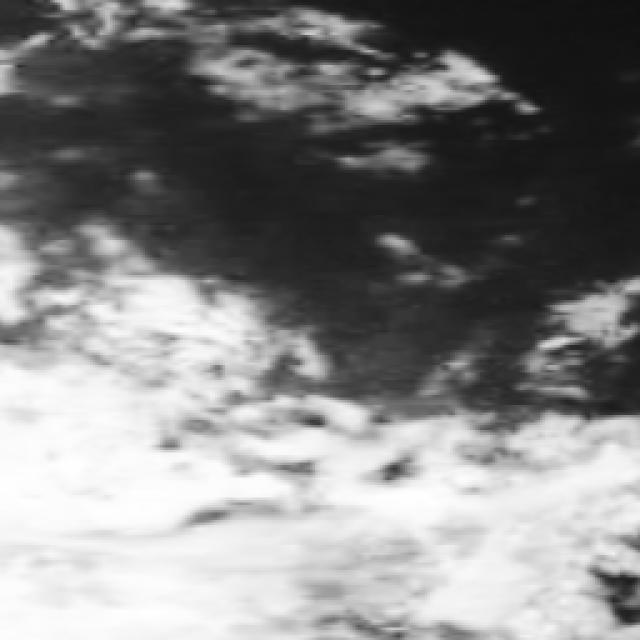CB: (19, 487, 162, 640), (9, 373, 149, 520), (152, 531, 288, 640)
